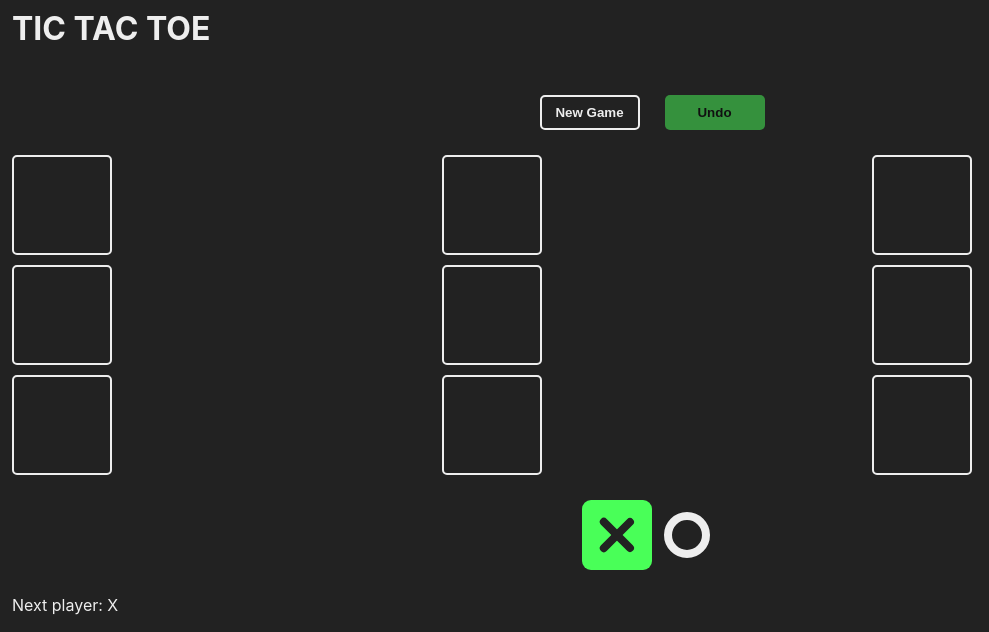
it: handles a player making a move
Click the element with test id "square-0" at x=62, y=205, box [12,155,112,255]
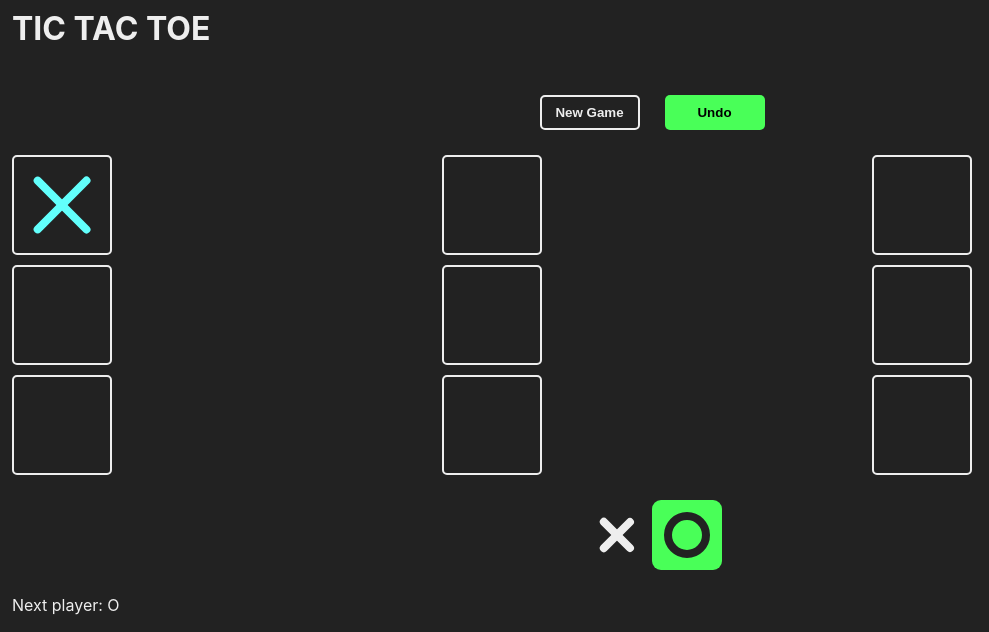
Expected: the text "Next player: O" is shown, [12,595,120,615]
